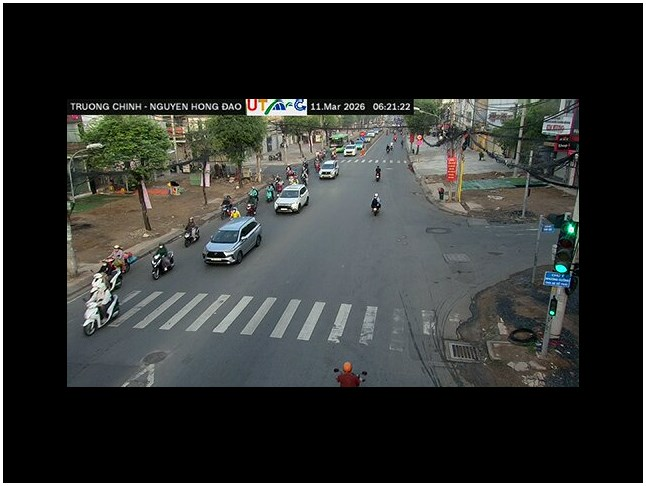car: (203, 217, 262, 266), (273, 185, 309, 214), (319, 159, 339, 180), (344, 145, 358, 156)
motorbike: (81, 287, 121, 336), (150, 243, 176, 280), (183, 220, 200, 247), (370, 194, 382, 216)
